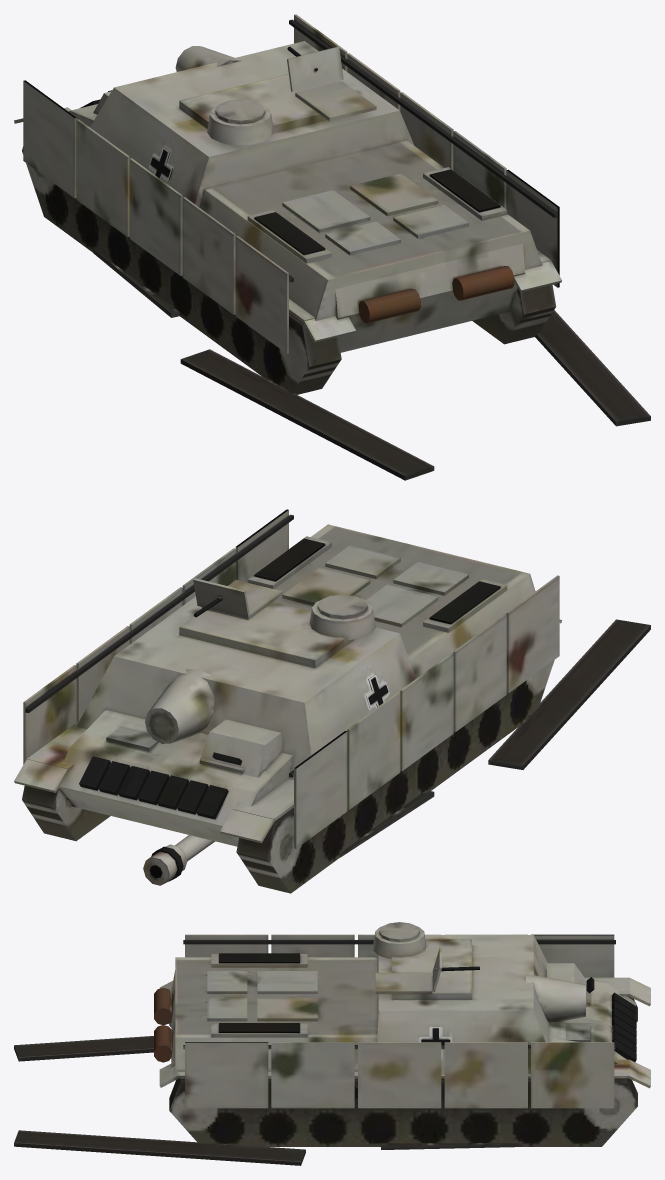
Rendered from stug4_winter.glb.
The picture shows the model from 3 angles, top to bottom: view 1: azimuth 30°, elevation 25°; view 2: azimuth 150°, elevation 25°; view 3: azimuth 270°, elevation 25°; orthographic projection. The views are drawn at different scales.
Visible parts, largest first — view 1: hull_ok, hull_trackL, hull_trackR; view 2: hull_ok, hull_trackL, gun_ok; view 3: hull_ok, hull_trackR, hull_trackL.
Boxes of the visible parts, left/top/right/bottom form: hull_ok: left=14, top=14, right=561, bottom=394; hull_trackL: left=93, top=248, right=434, bottom=480; hull_trackR: left=535, top=310, right=650, bottom=426; hull_ok: left=14, top=509, right=561, bottom=893; hull_trackL: left=340, top=619, right=650, bottom=857; gun_ok: left=143, top=835, right=214, bottom=885; hull_ok: left=154, top=922, right=650, bottom=1146; hull_trackR: left=14, top=1130, right=521, bottom=1165; hull_trackL: left=14, top=1036, right=153, bottom=1061.
Size of the model in its own units: 4.02 by 2.51 by 7.95.
Materials: 12 (12 with a texture image).
